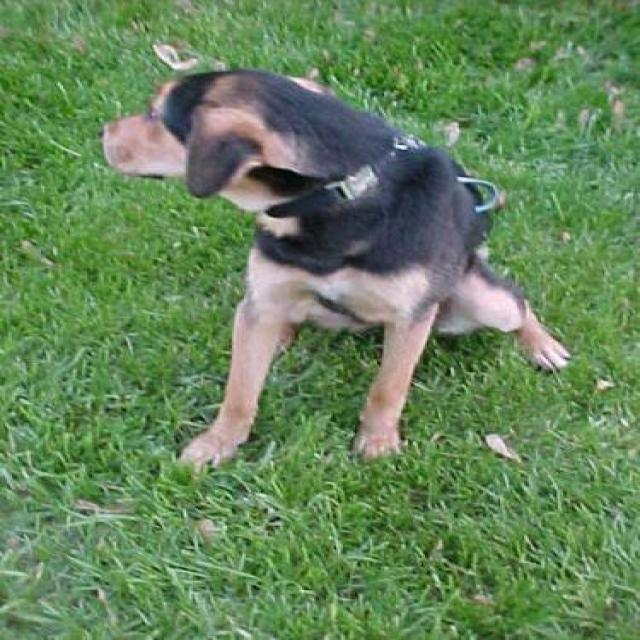dogs: (85, 22, 602, 472)
